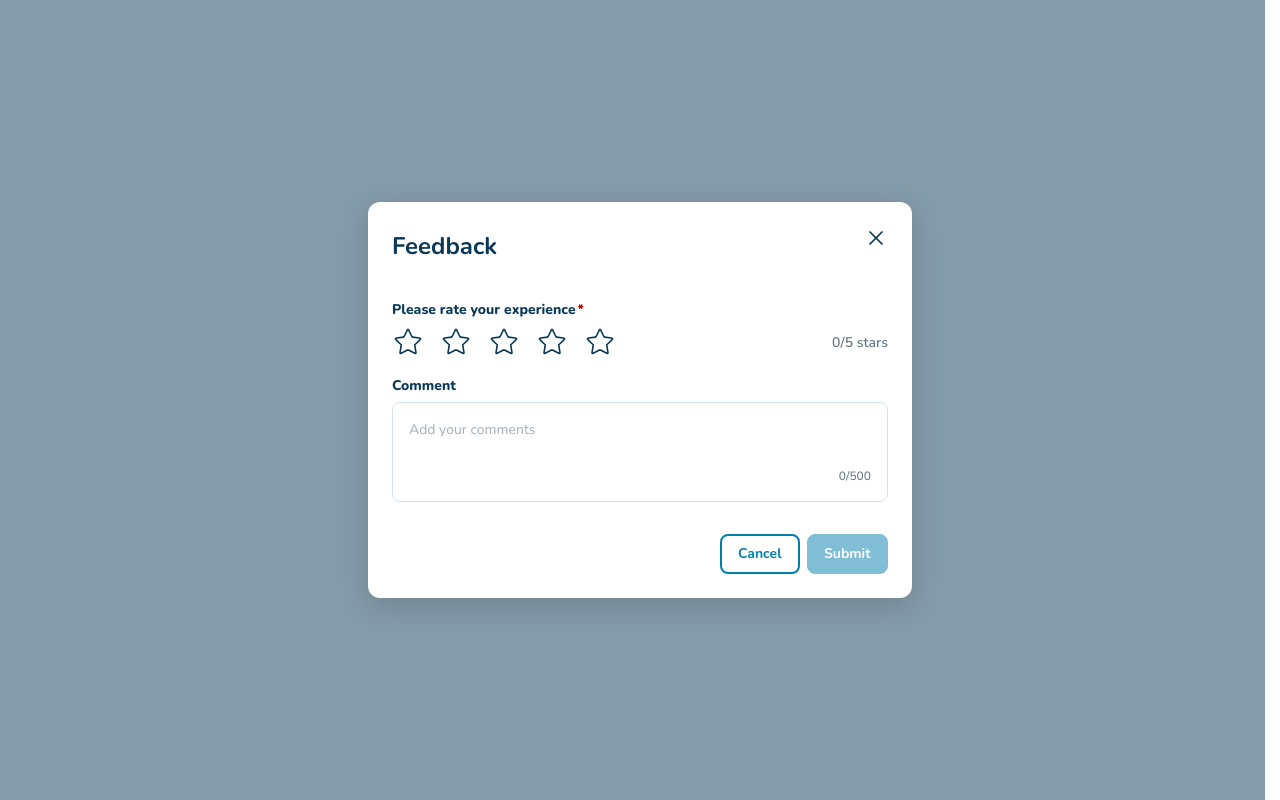
Test case: FeedbackModal Component - Edge Cases & Interactions (MR 2) › edge case: hovering over stars previews X/5 stars text in DOM, mouse leave restores saved rating text
Note: Click 3 stars
Step 1. Click the button with test id "feedback-star-3" → point(504, 342), box [488,326,520,358]
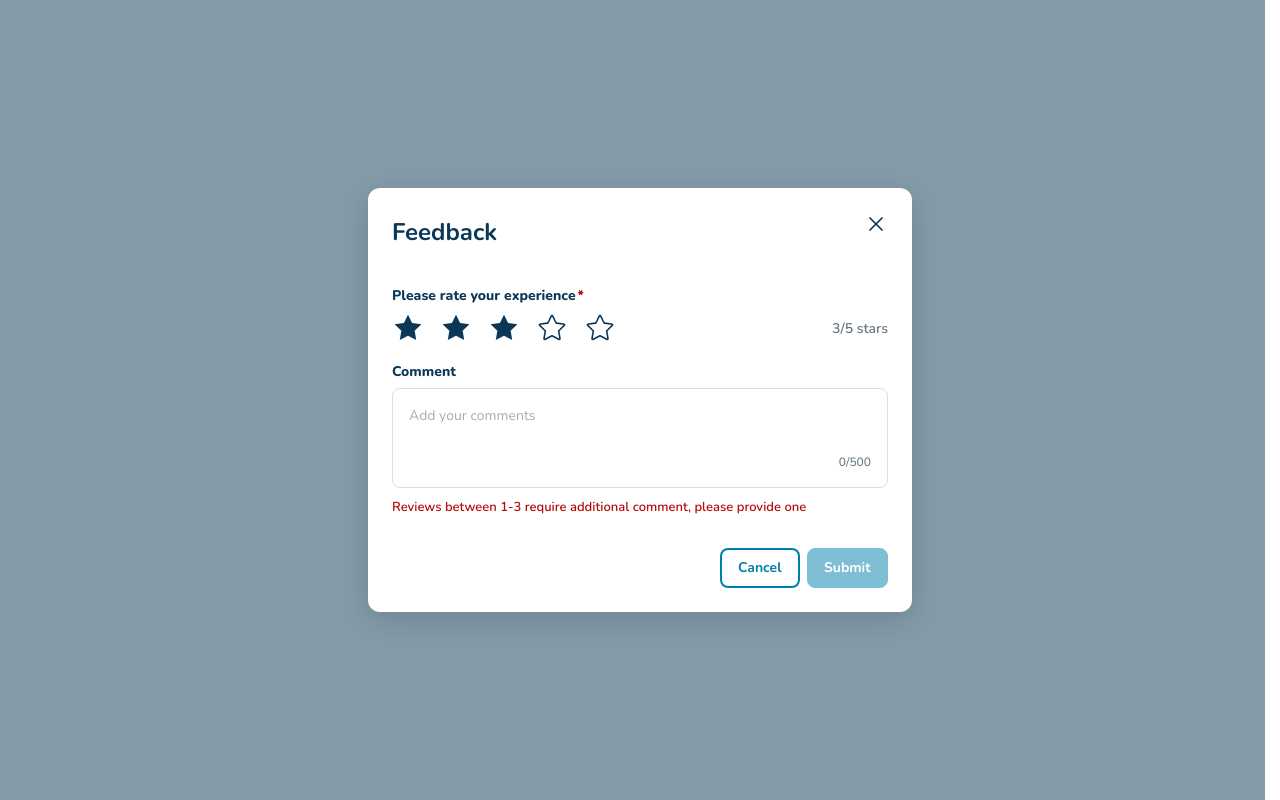
Check: the text with test id "feedback-stars-text" reads "3/5 stars", box [832,318,888,338]
Note: Hover over 5 stars
Step 2. Hover over the button with test id "feedback-star-5" → point(600, 328), box [584,312,616,344]
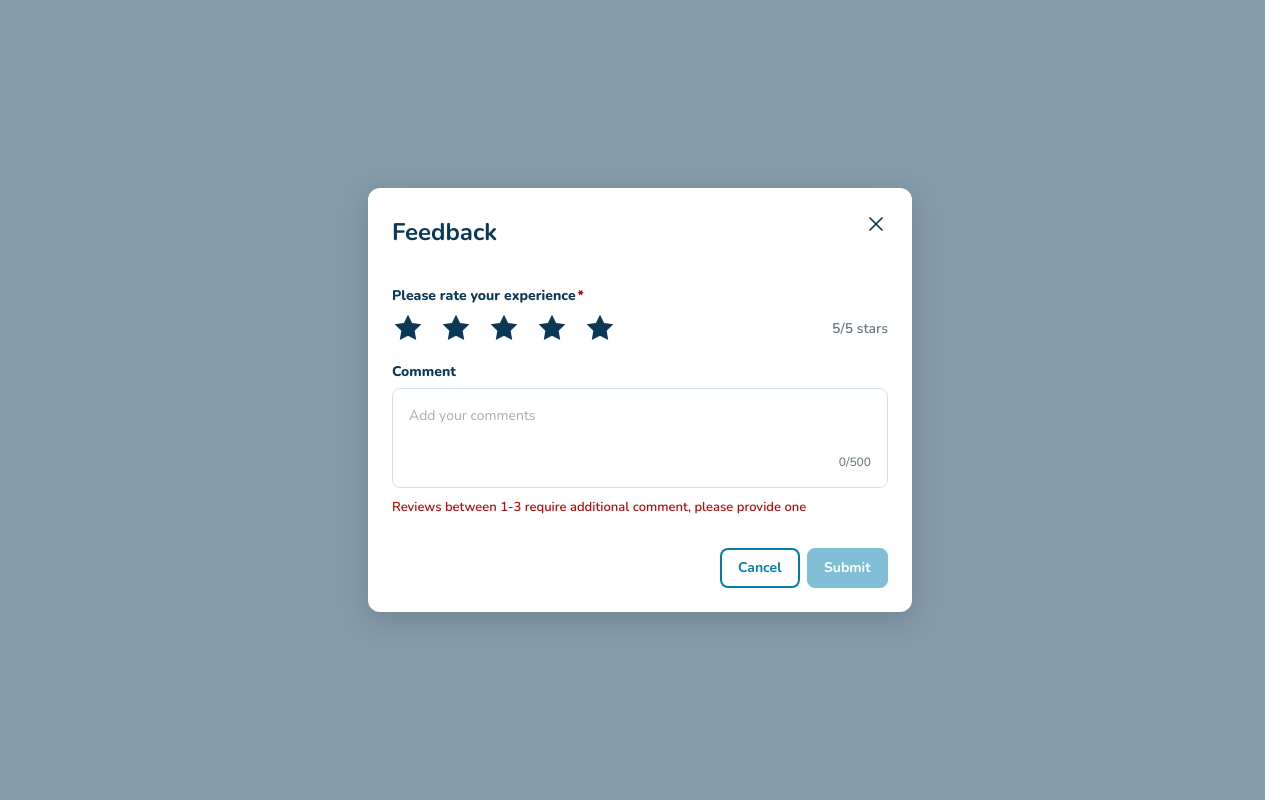
Check: the text with test id "feedback-stars-text" reads "5/5 stars", box [832,318,888,338]
Note: Mouse leave stars container
Step 3. Move the pointer off the element showing "5/5 stars", box [392,312,888,344]
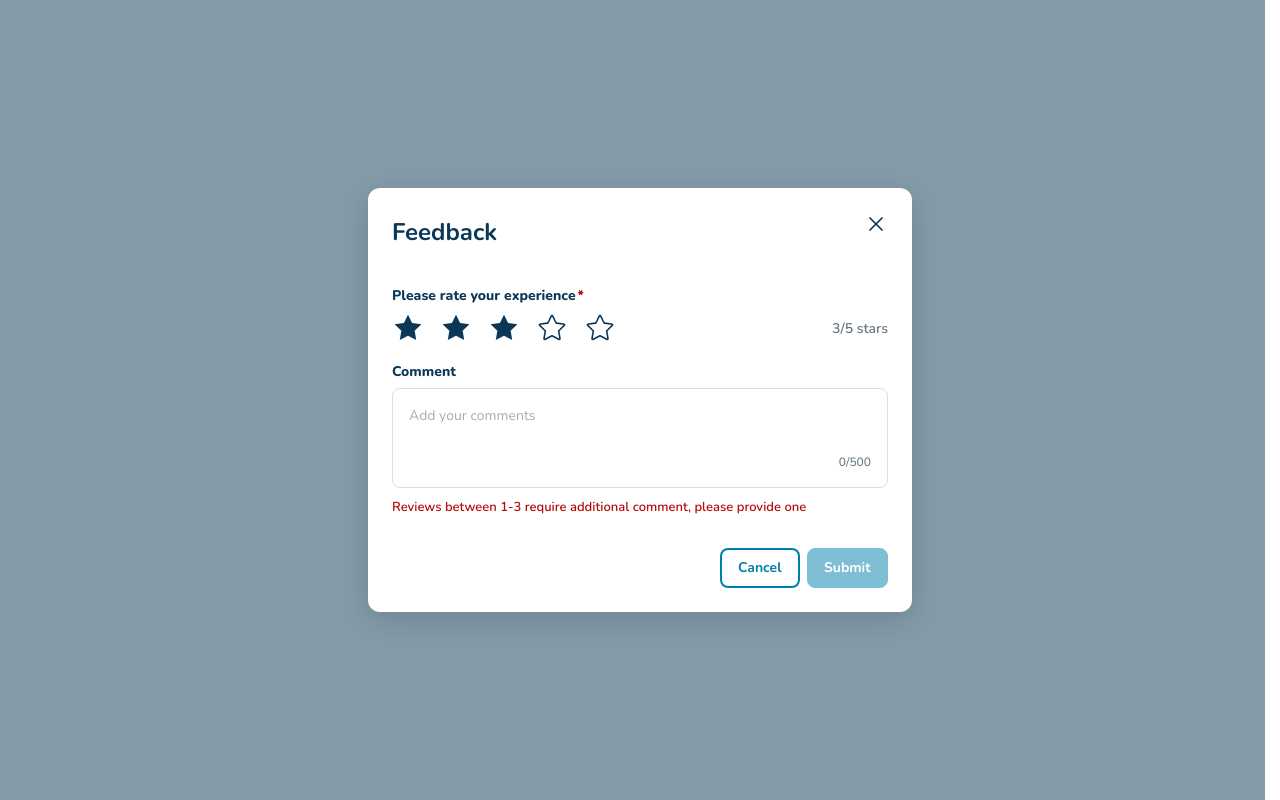
Check: the text with test id "feedback-stars-text" reads "3/5 stars", box [832,318,888,338]
